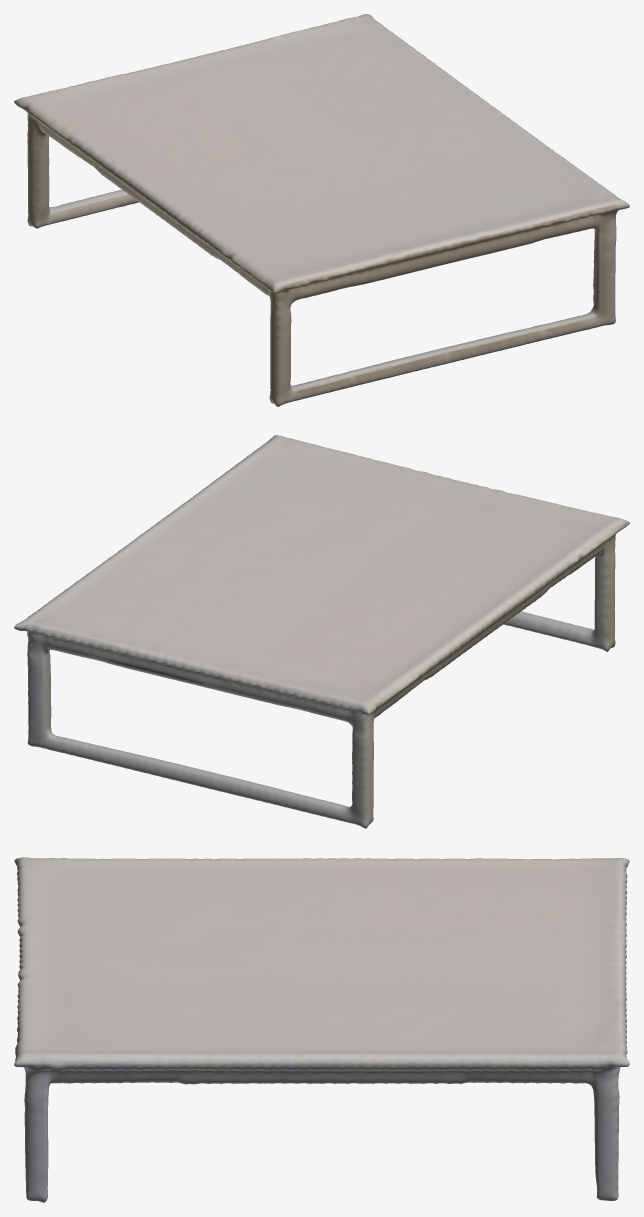
The model's file is desk_draft.glb.
3 renders of one model, top to bottom at view 1: azimuth 30°, elevation 25°; view 2: azimuth 150°, elevation 25°; view 3: azimuth 270°, elevation 25°, orthographic. The views are drawn at different scales.
Visible parts, largest first — view 1: geometry_0; view 2: geometry_0; view 3: geometry_0.
Part boxes in pixels (box(x1,y1,x2,y2)): geometry_0: box(14, 14, 629, 406); geometry_0: box(14, 435, 629, 828); geometry_0: box(14, 857, 629, 1202).
Size of the model in its own units: 0.7175 by 0.2465 by 0.9127.
Materials: 1 (1 with a texture image).
